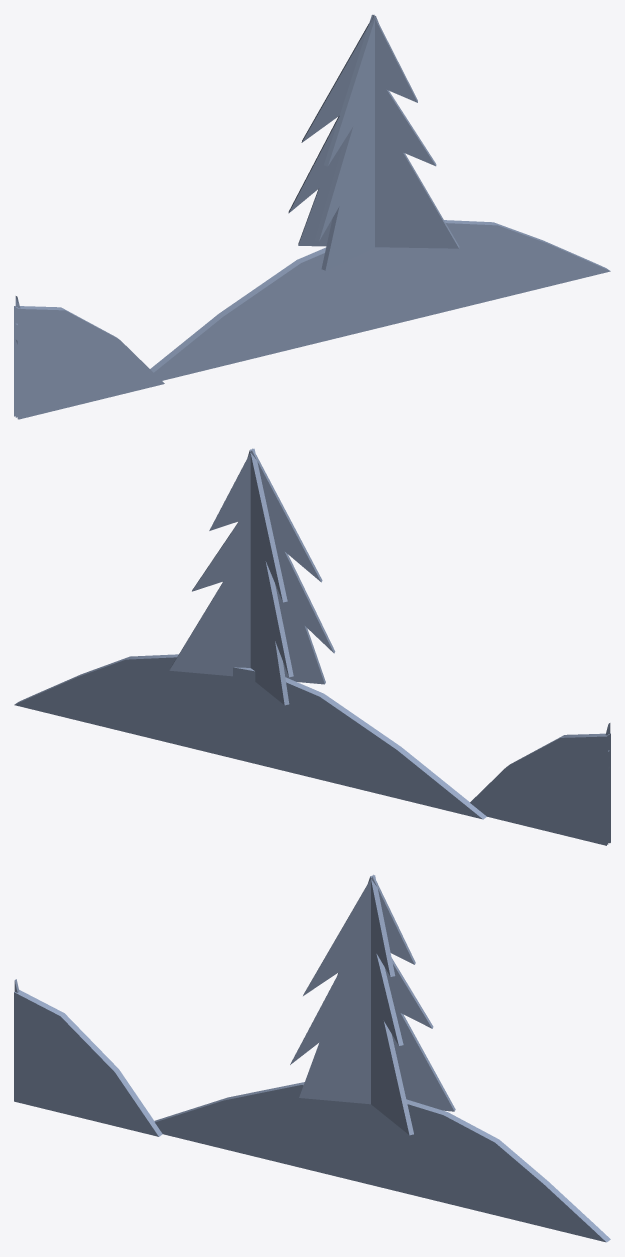
The model's file is frame_0182.glb.
3 views of the same model, one above another, from view 1: azimuth 30°, elevation 25°; view 2: azimuth 150°, elevation 25°; view 3: azimuth 330°, elevation 25° (orthographic).
Parts seen in each view (by area): view 1: export_trees_001.002; view 2: export_trees_001.002; view 3: export_trees_001.002.
Boxes of the visible parts, x1=… form: export_trees_001.002: x1=14, y1=14, x2=610, y2=419; export_trees_001.002: x1=14, y1=448, x2=610, y2=845; export_trees_001.002: x1=14, y1=874, x2=610, y2=1242.
Bounding box in the file's own units: 0.3372 × 0.1695 × 0.0469.
